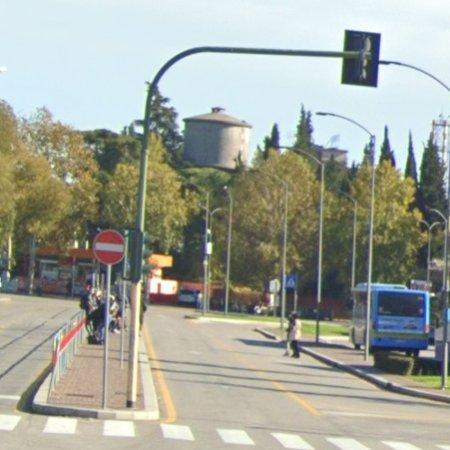traffic lights: (123, 222, 158, 287)
